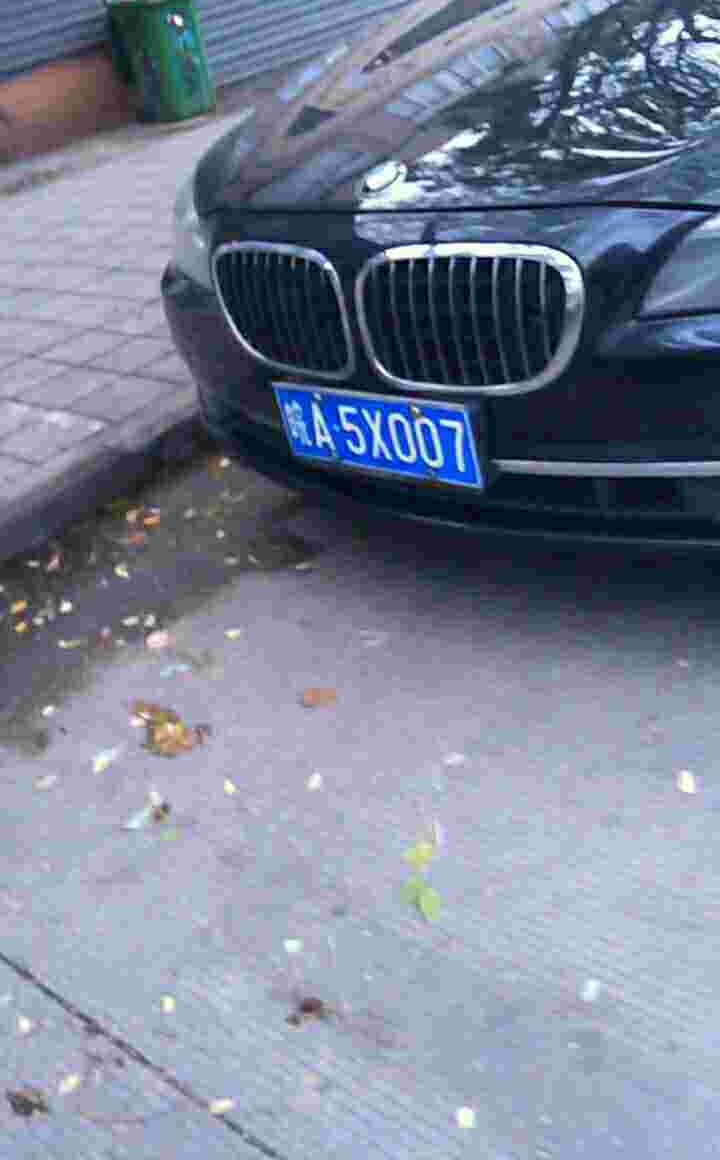license_plate: (284, 398, 481, 500)
